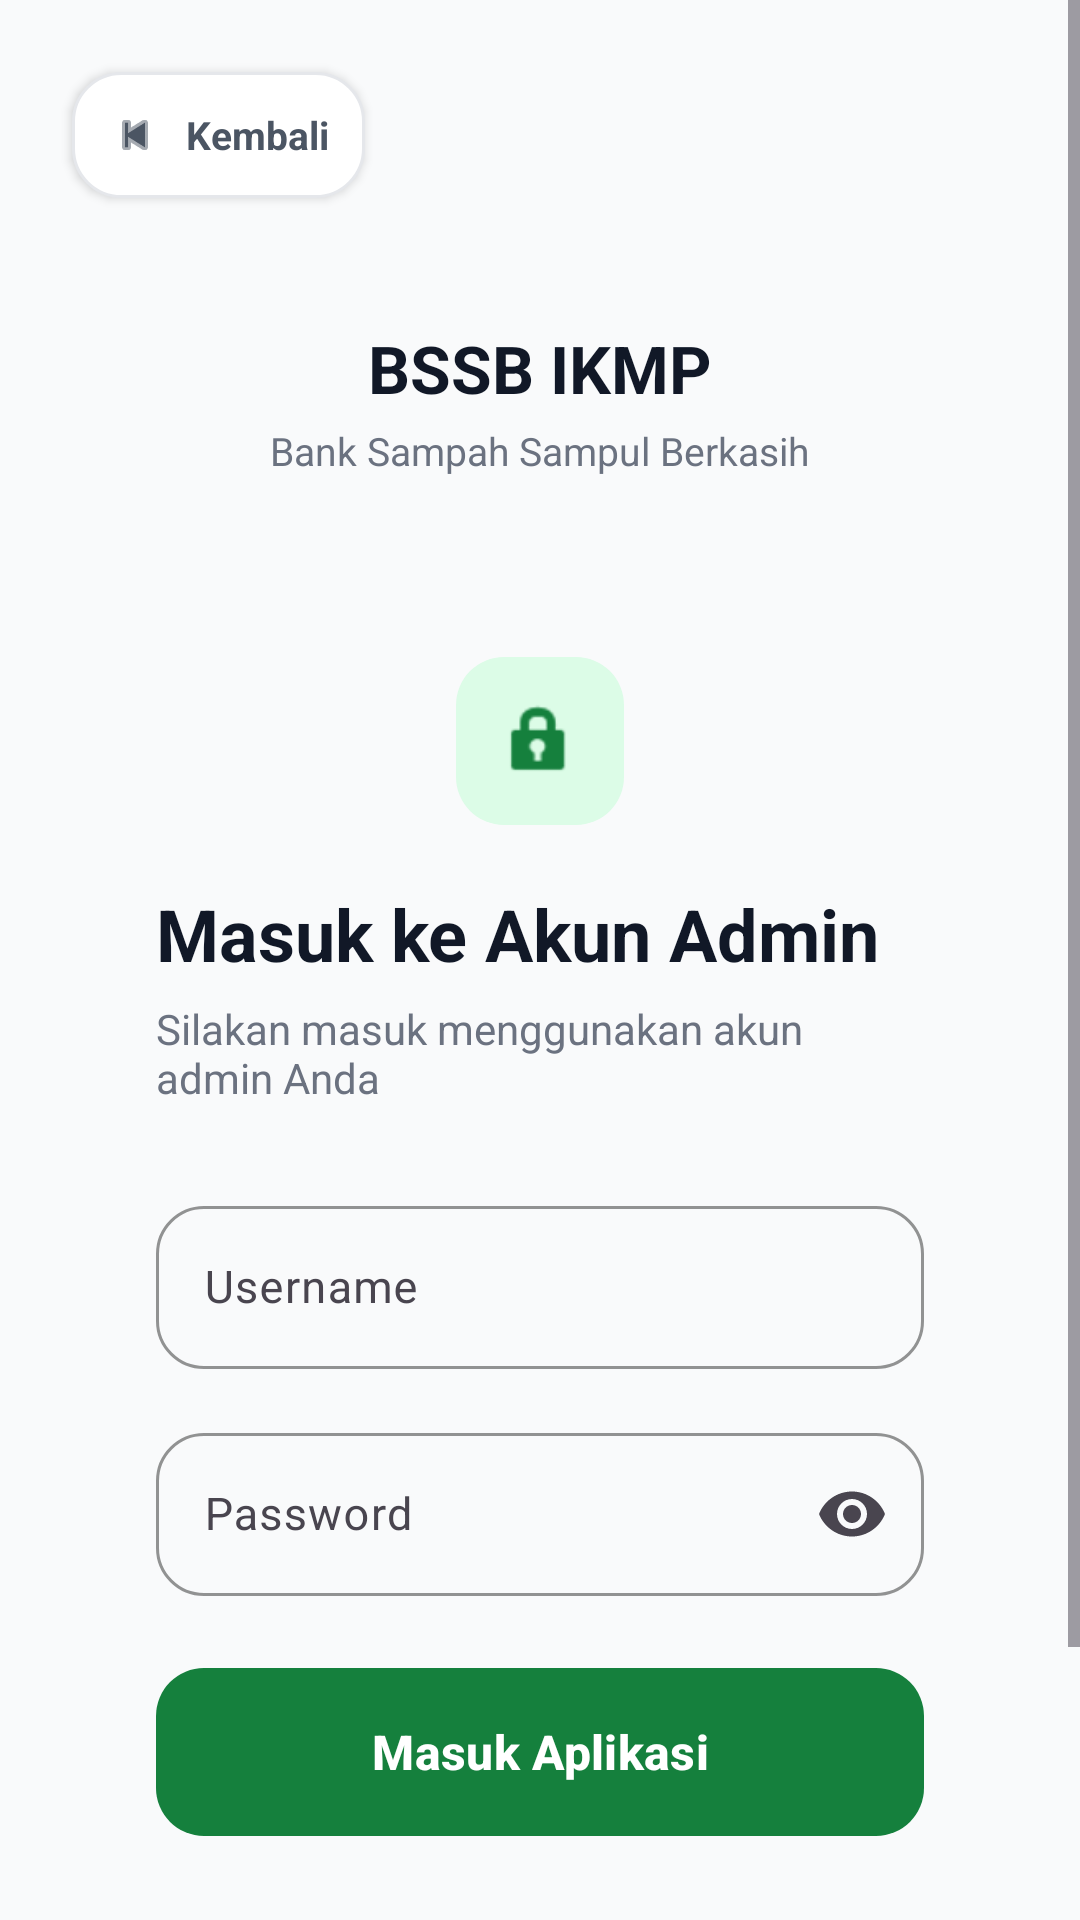

Where to tap for icons on this 1080 × 1920 app screen, as (x,y):
lock idle: (538,738)
previous: (135,135)
